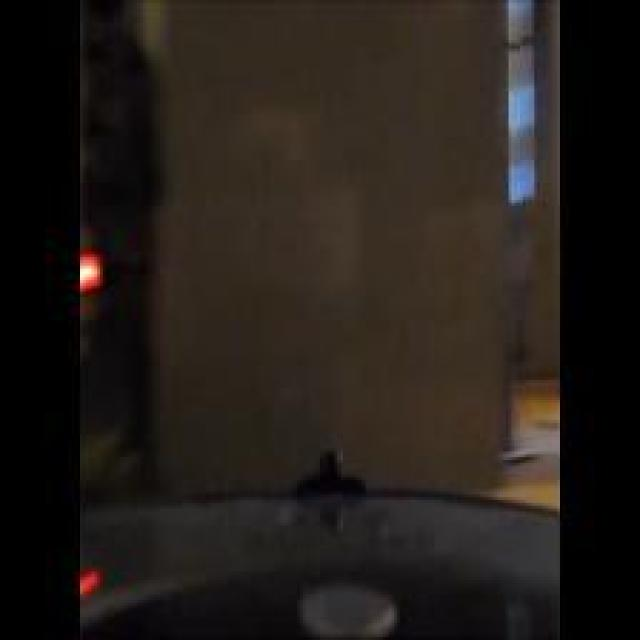other: (80, 232, 100, 296), (79, 554, 100, 596)
